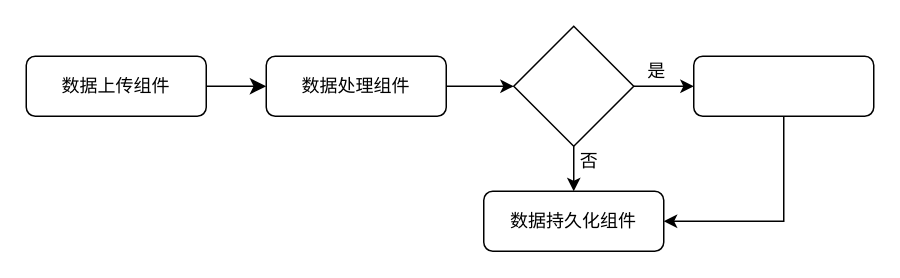
Image size: 900x278. Some labels were removed from this diagram. The box of each missing label's shape, as (x1, y1, x2, y2) in pixels:
Python插值计算服务: (692, 55, 874, 116)
数据需要插值？: (512, 25, 634, 146)
